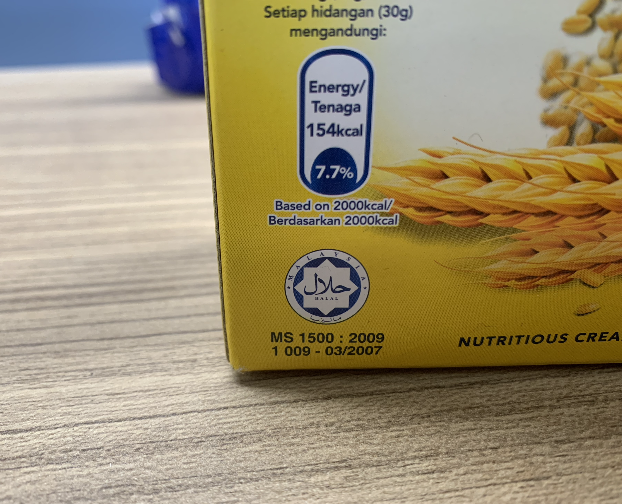halal: (298, 257, 355, 313)
